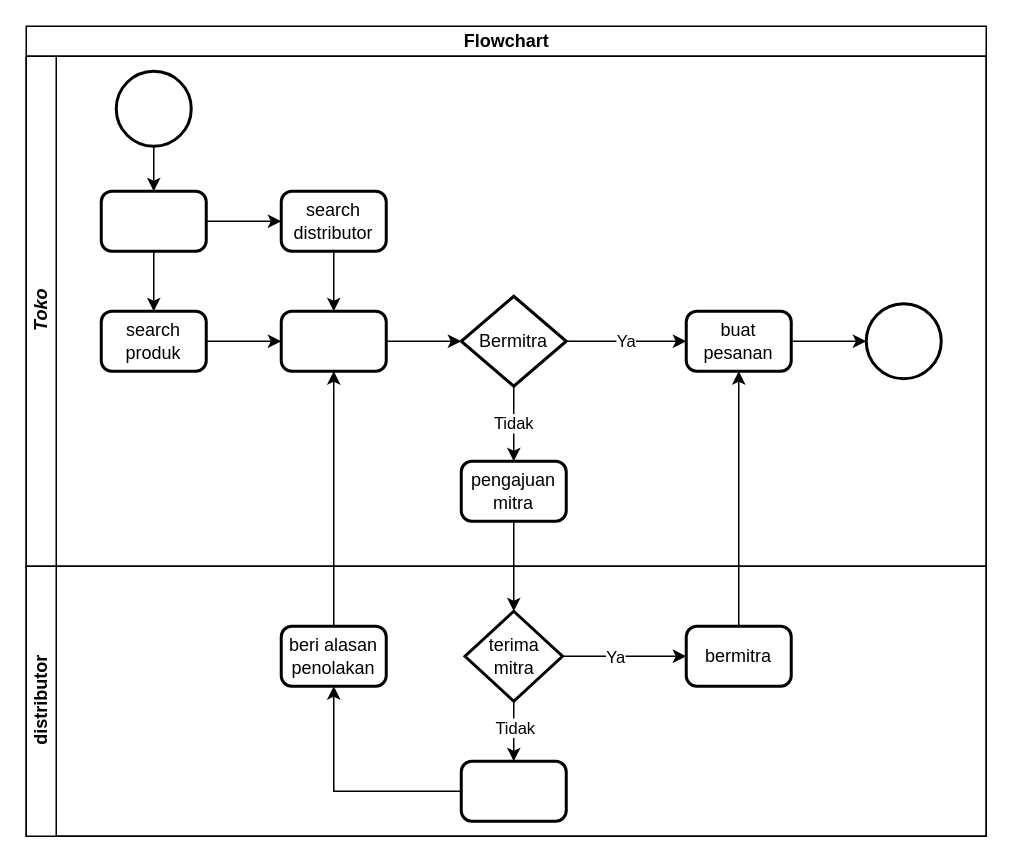
This 1013x863 diagram has some shape labels left out. Each missing label, with the centre of its shape:
"belum bermitra" goes at point (513, 790).
"end" goes at point (903, 341).
"login" goes at point (153, 220).
"start" goes at point (153, 108).
"tampil profil distributor" goes at point (333, 340).
